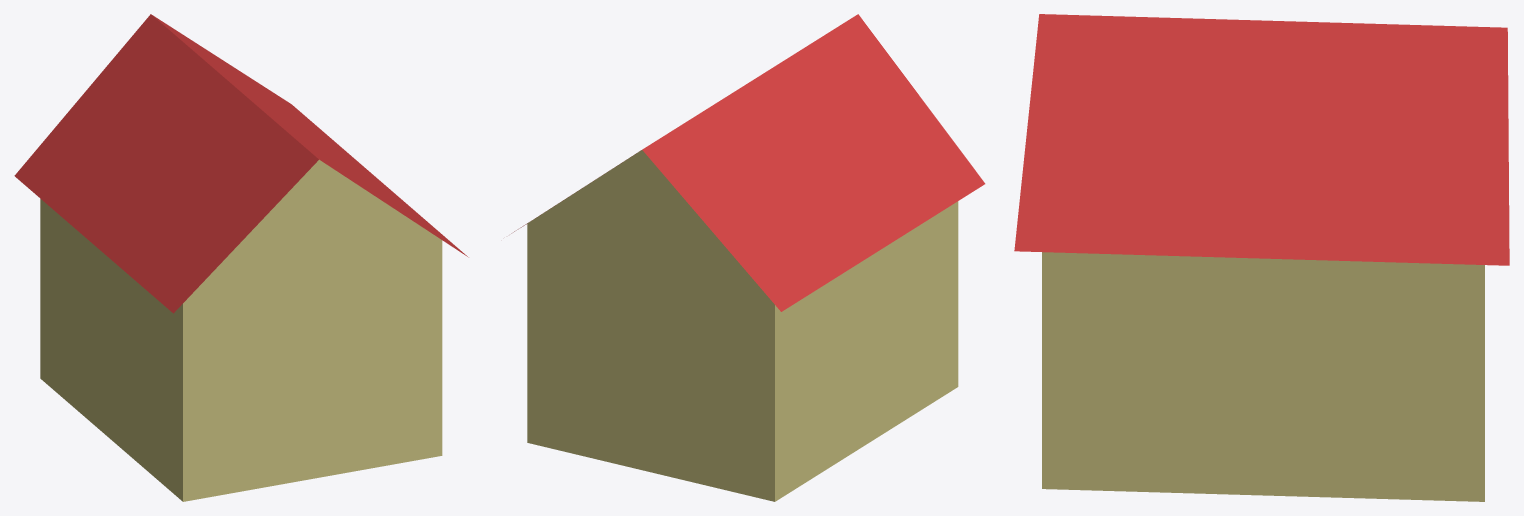
The picture shows the model from 3 angles, left to right: view 1: azimuth 30°, elevation 25°; view 2: azimuth 150°, elevation 25°; view 3: azimuth 270°, elevation 25°; orthographic projection. The views are drawn at different scales.
Bounding box in the file's own units: 13.04 × 15.2 × 13.57.
